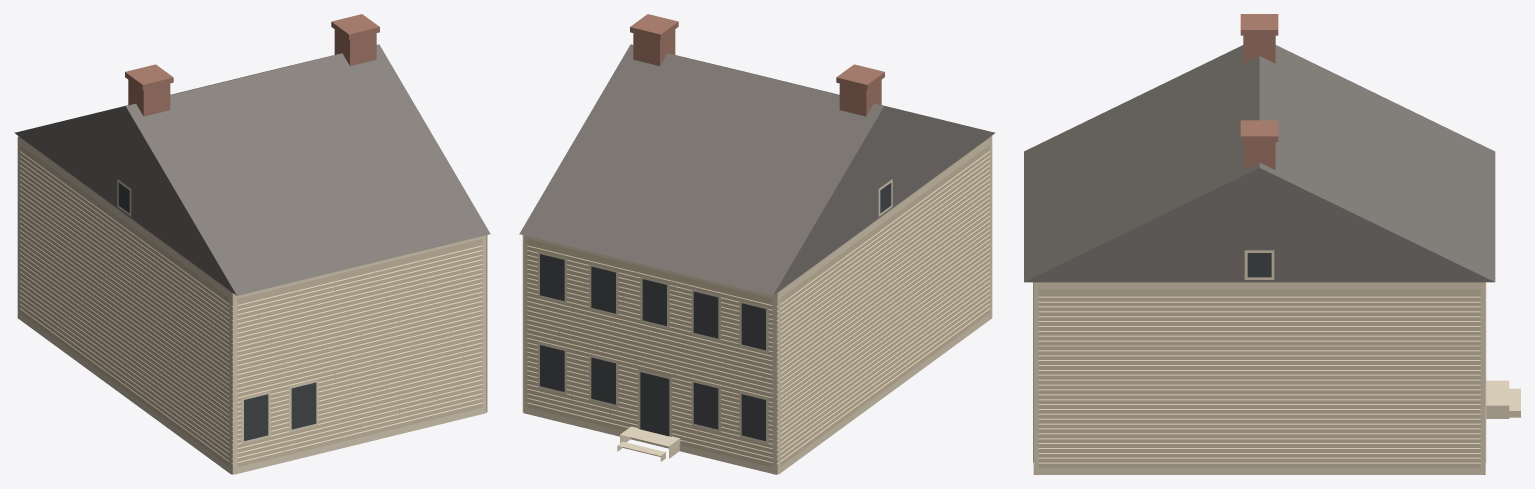
File: recon_1835_blk_randolph_clark_h2_02__inferred_1835.glb
3 views of the same model, side by side, from view 1: azimuth 30°, elevation 25°; view 2: azimuth 150°, elevation 25°; view 3: azimuth 270°, elevation 25° (orthographic). The views are drawn at different scales.
Parts seen in each view (by area): view 1: recon_1835_blk_randolph_clark_h2_02__inferred_1835; view 2: recon_1835_blk_randolph_clark_h2_02__inferred_1835; view 3: recon_1835_blk_randolph_clark_h2_02__inferred_1835.
Boxes of the visible parts, box(x1,y1,x2,y2) form: recon_1835_blk_randolph_clark_h2_02__inferred_1835: box(14, 14, 490, 474); recon_1835_blk_randolph_clark_h2_02__inferred_1835: box(519, 14, 995, 474); recon_1835_blk_randolph_clark_h2_02__inferred_1835: box(1024, 14, 1520, 474).
Bounding box in the file's own units: 8.14 × 9.58 × 12.92.
